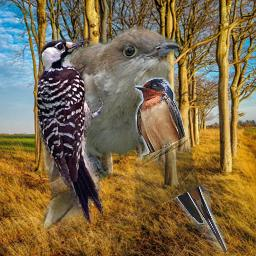Cuckoo: (37, 25, 182, 232)
Swallow: (135, 77, 227, 253)
Woodpecker: (37, 37, 103, 223)
